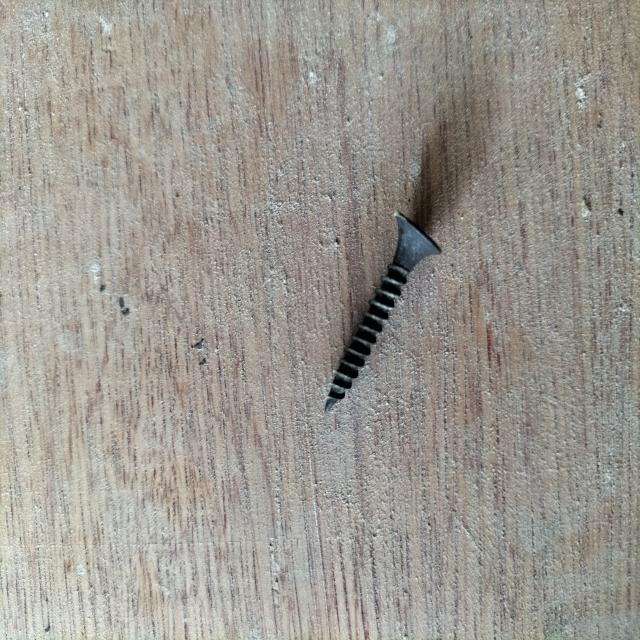screw: (324, 210, 441, 415)
